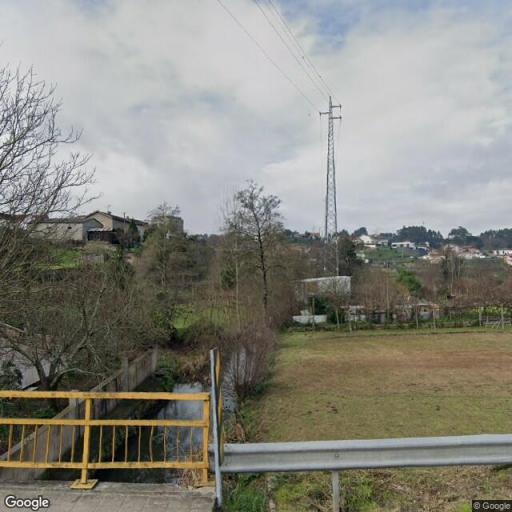ss_4: (317, 93, 346, 275)
